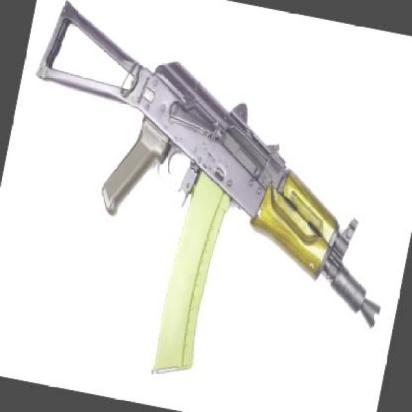Gun: (36, 4, 383, 375)
